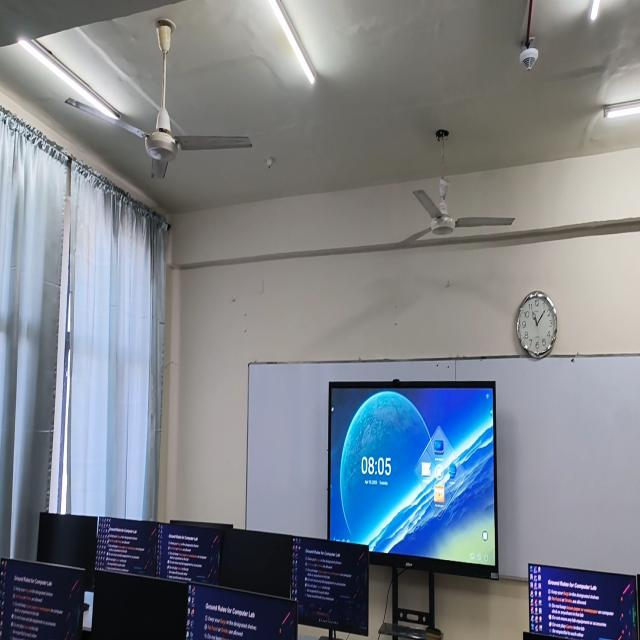Digital board: (328, 380, 498, 578)
Light: (17, 40, 119, 119), (268, 0, 316, 85), (603, 99, 640, 119), (589, 0, 601, 22)
Monitor: (529, 564, 637, 639), (291, 537, 369, 635), (0, 559, 84, 639), (90, 571, 188, 639), (186, 583, 296, 639), (218, 529, 292, 598), (37, 513, 98, 590), (156, 524, 223, 583), (95, 517, 159, 576), (226, 624, 229, 627)
